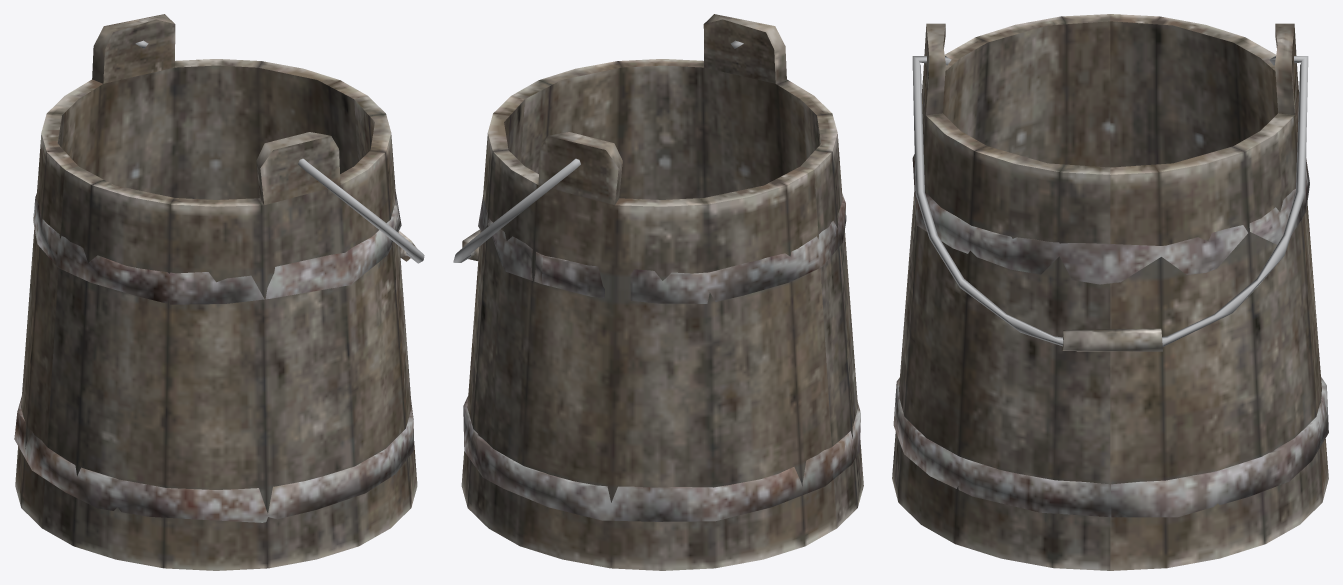
Rendered from SM_Bucket_2.FBX.
3 renders of one model, left to right at view 1: azimuth 30°, elevation 25°; view 2: azimuth 150°, elevation 25°; view 3: azimuth 270°, elevation 25°, orthographic. The views are drawn at different scales.
Visible parts, largest first — view 1: SM_Bucket_2; view 2: SM_Bucket_2; view 3: SM_Bucket_2.
Boxes of the visible parts, x1,y1,x2,y2 form: SM_Bucket_2: (14,14,424,570); SM_Bucket_2: (453,14,863,570); SM_Bucket_2: (892,14,1328,570).
Size of the model in its own units: 45.45 by 49.63 by 44.48.
